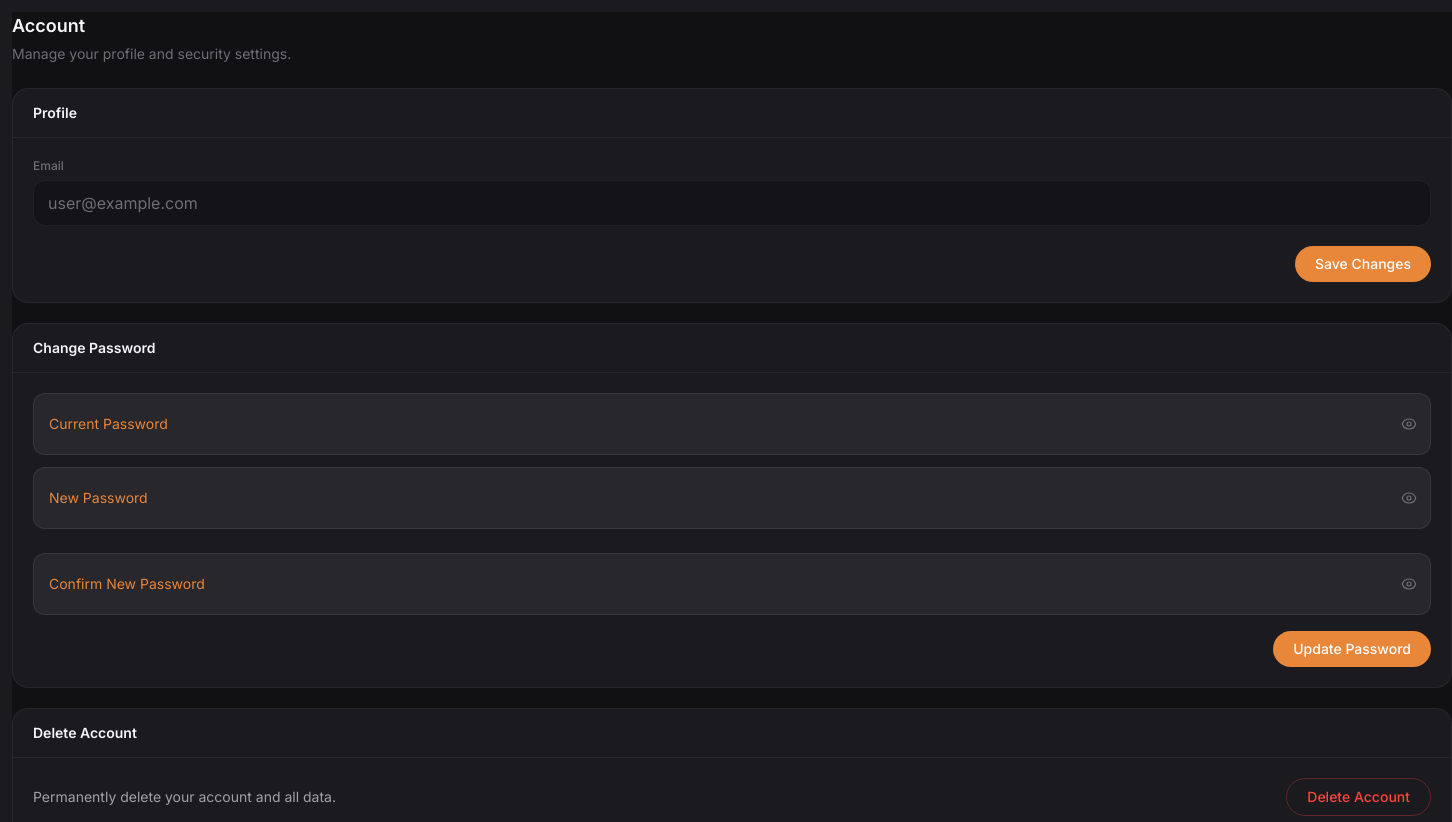
Scenario: AccountTab — Change Password validation › shows error when current password is empty
What coordinates should you click on to do the following:
click the button "Update Password"
I would click on:
 (1352, 649)
Its box is left=1273, top=631, right=1431, bottom=667.
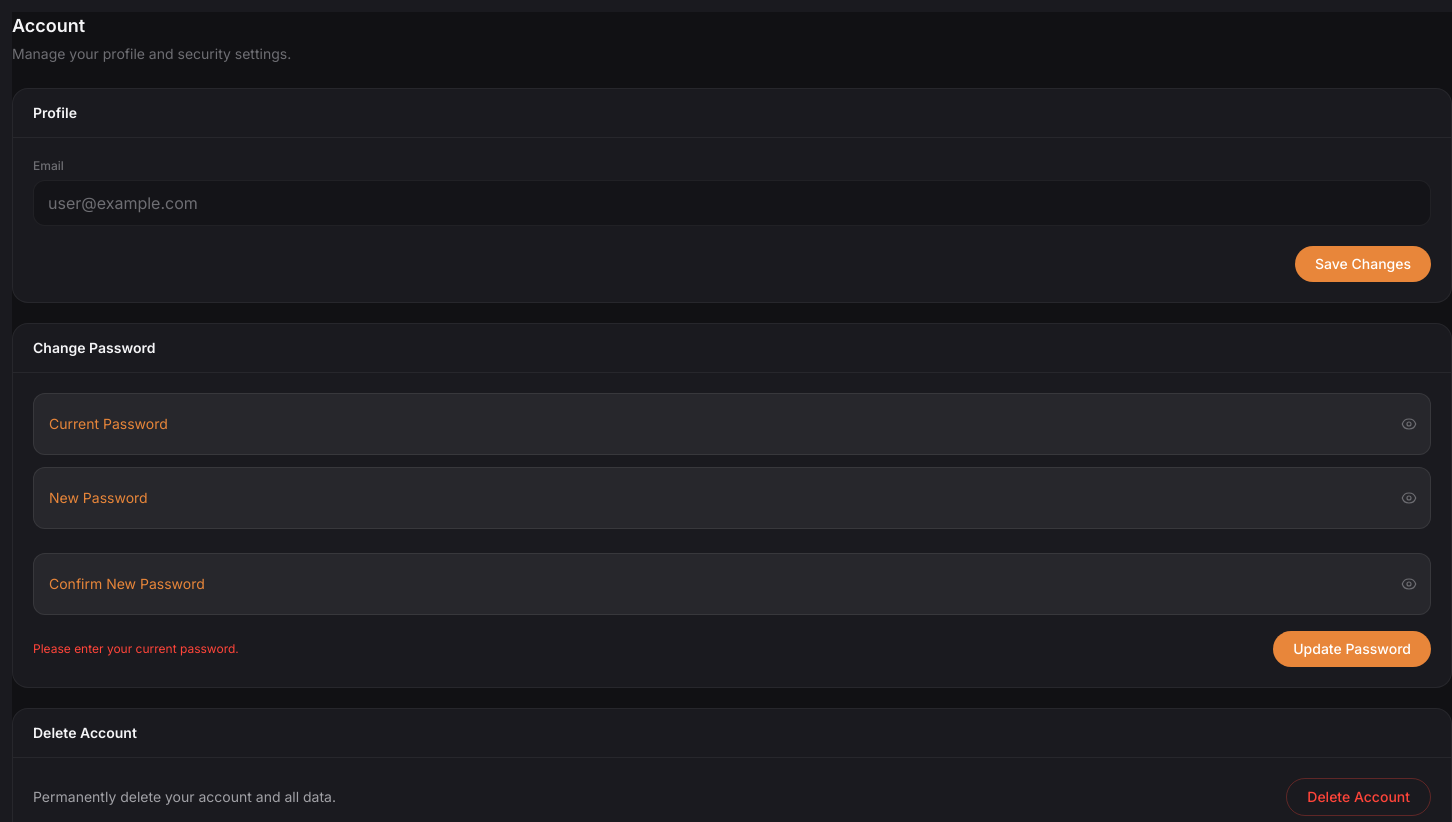
Expected: the text "Please enter your current password." is shown, left=33, top=641, right=239, bottom=657
